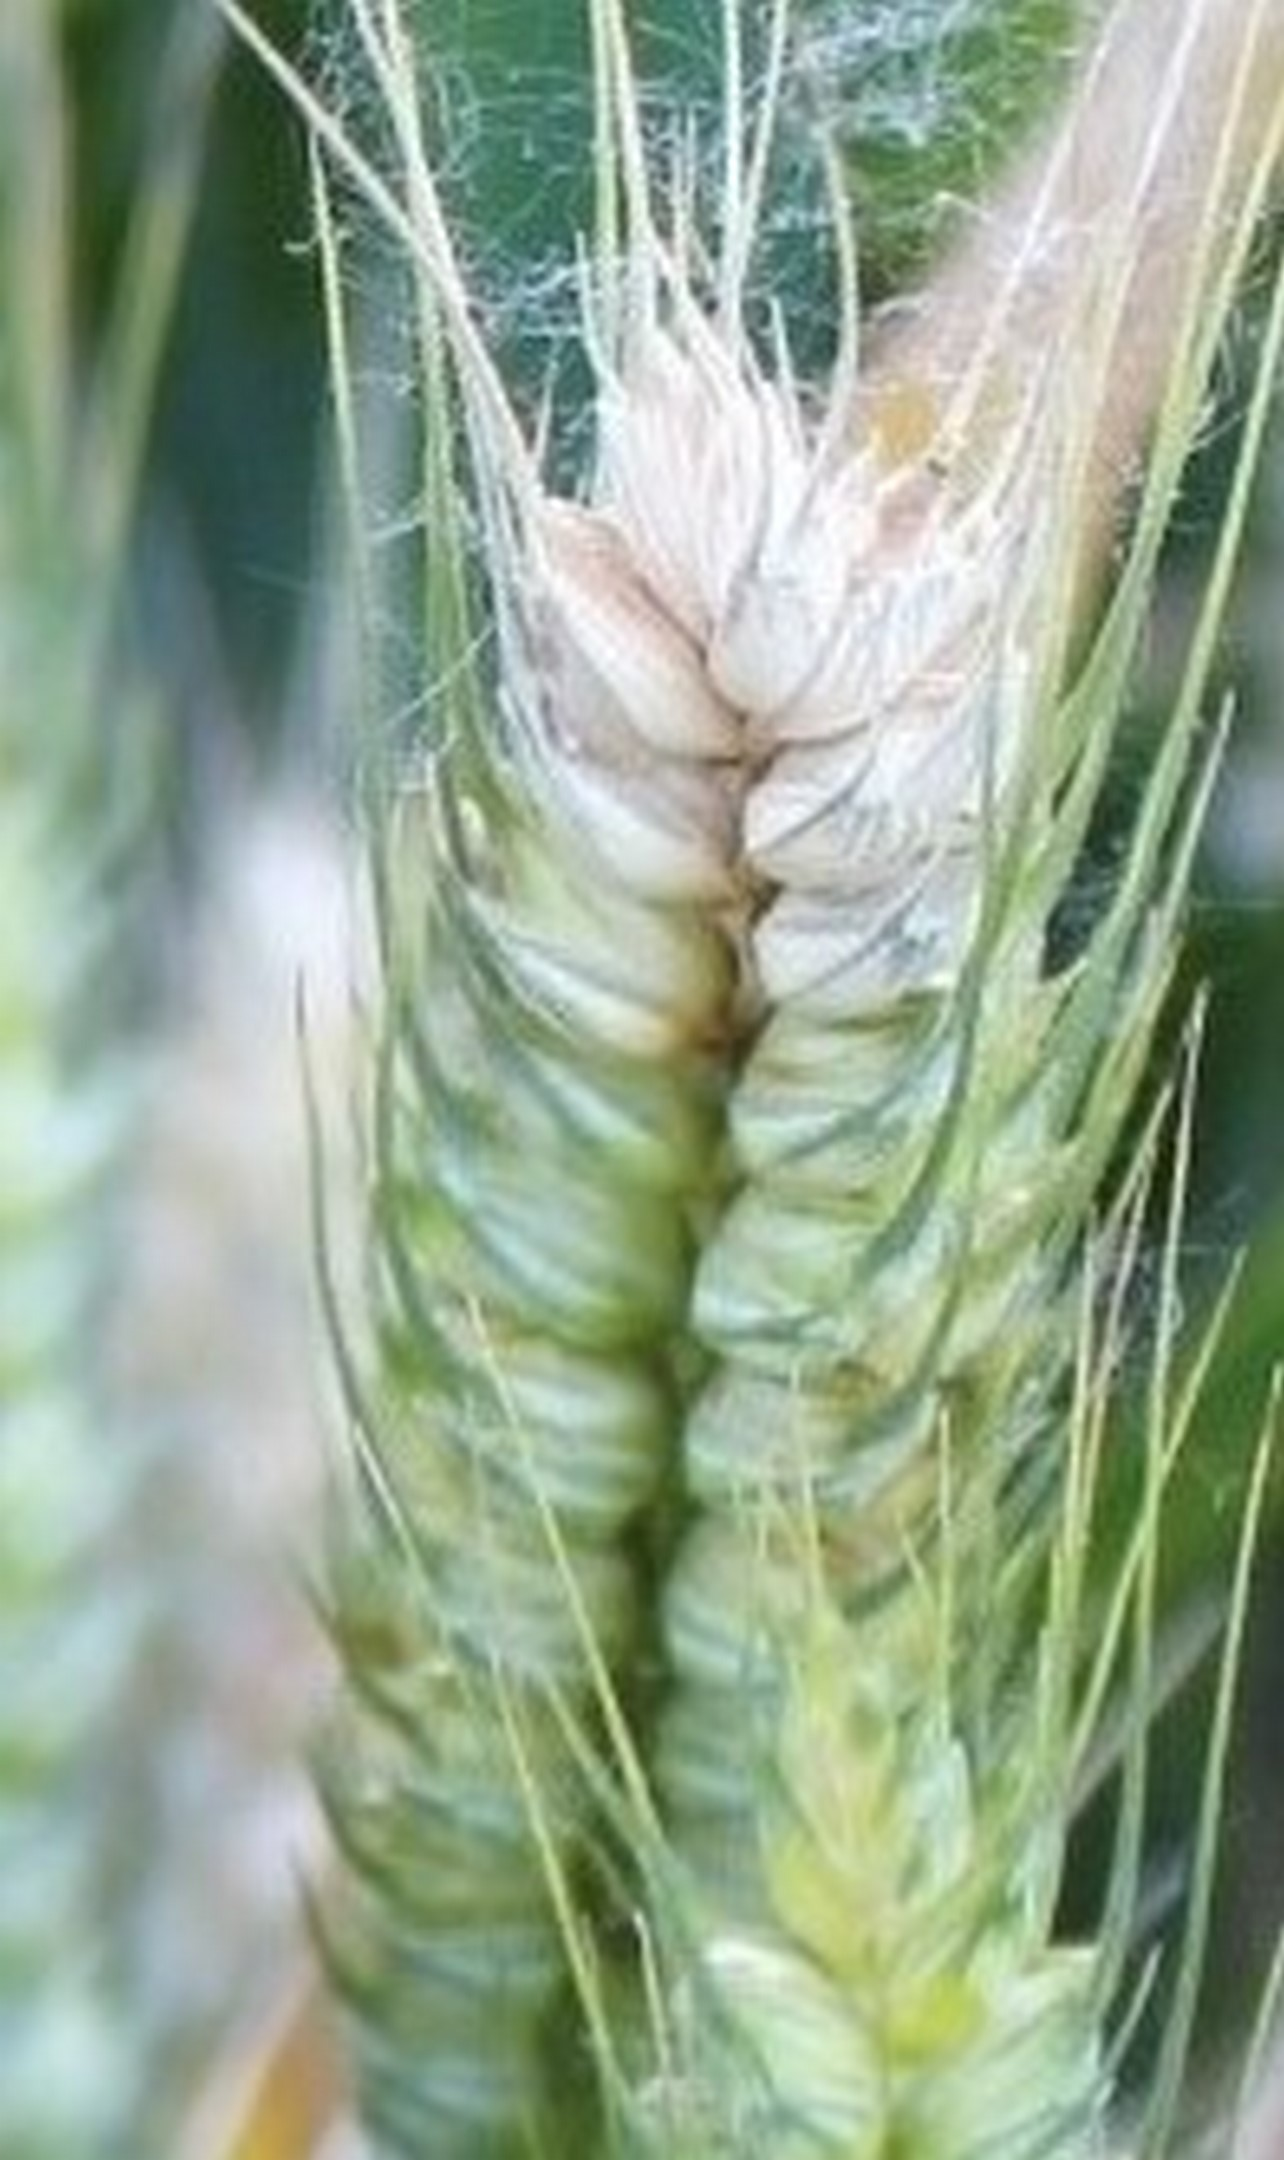Wheat scab: (248, 261, 1163, 2059)
